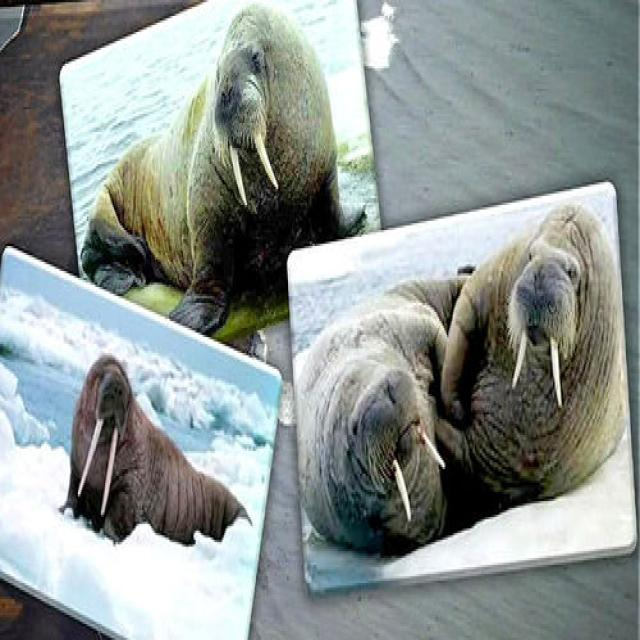walrus: (143, 7, 344, 244), (474, 196, 627, 492), (68, 344, 259, 570), (298, 324, 462, 562)
